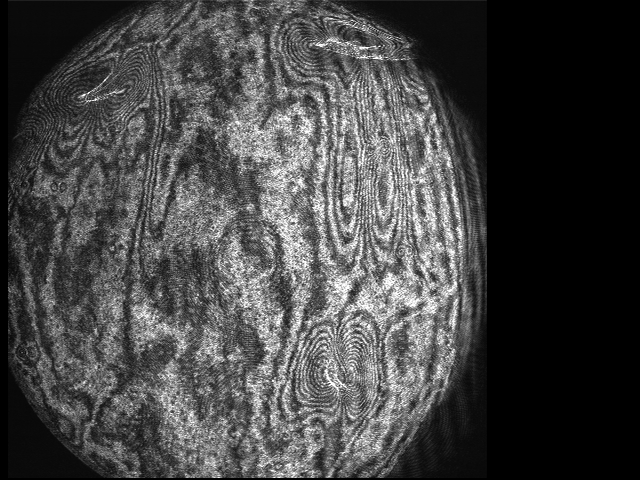plume: (292, 319, 378, 418)
